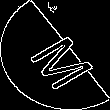M_NE: (16, 22, 94, 88)
